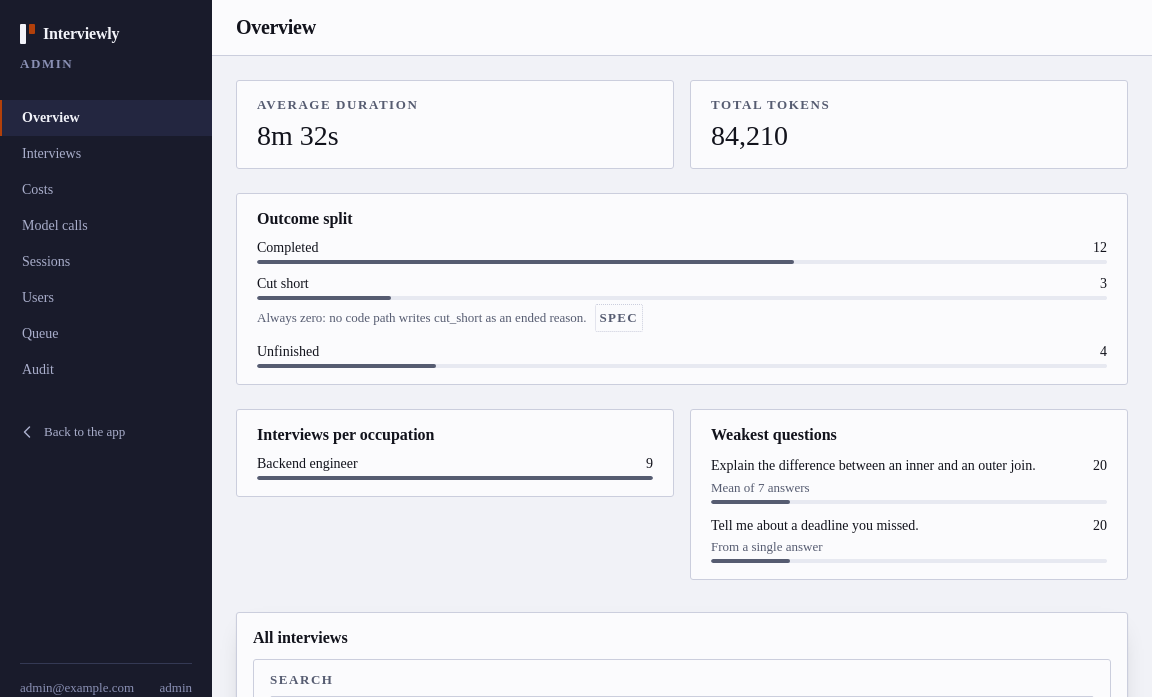
Scenario: admin list + stats (W11) › surfaces a recorded prompt-injection suspicion in the audit trail (US-29)
Click the button with test id "admin-nav-audit". click: (106, 370)
box: x1=0 y1=352 x2=212 y2=388
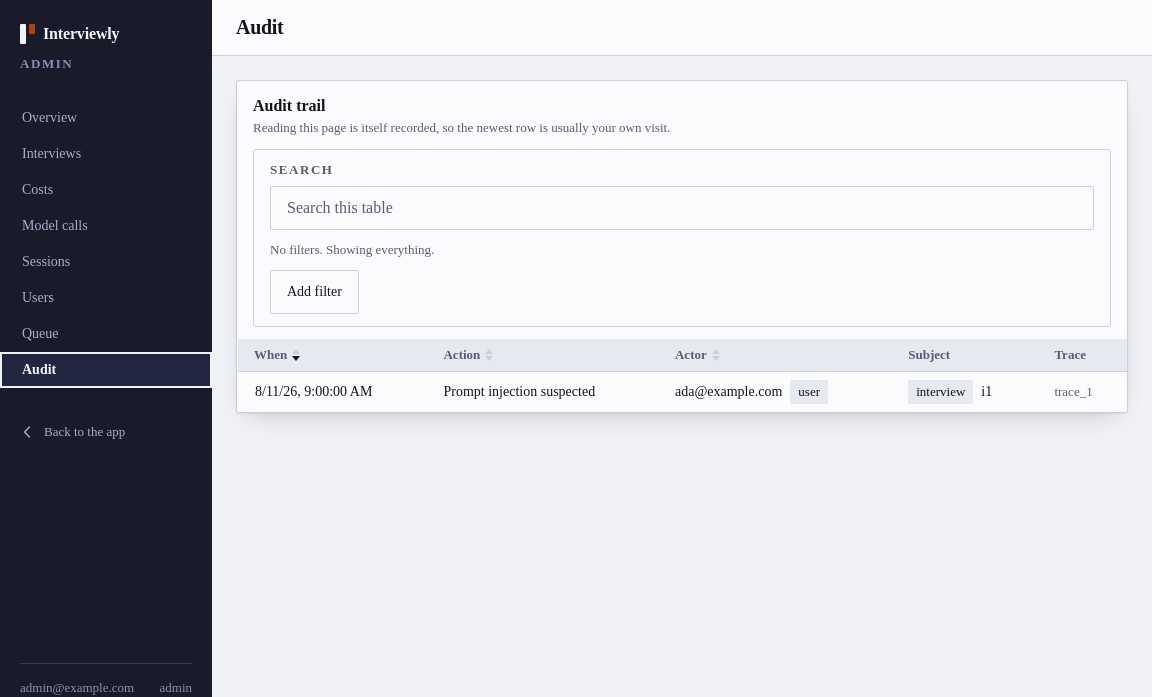
Result: the text "Prompt injection suspected" is shown at x1=428 y1=372 x2=659 y2=412
